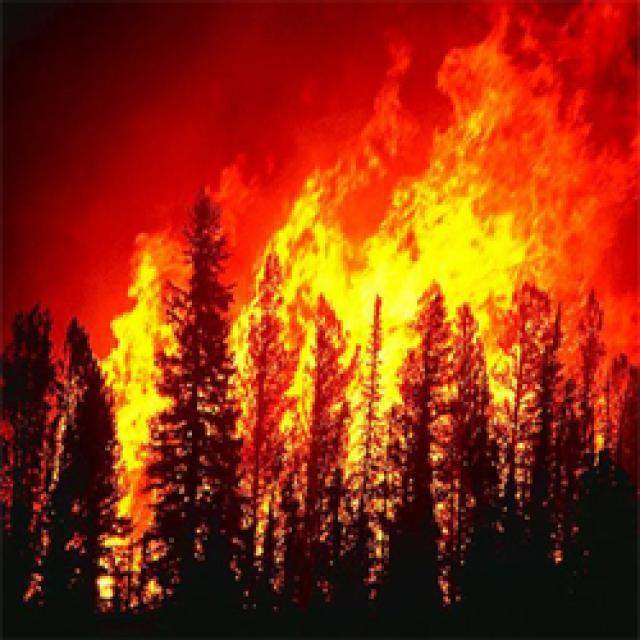Fire: (82, 69, 588, 616)
Smoke: (250, 0, 640, 231)
